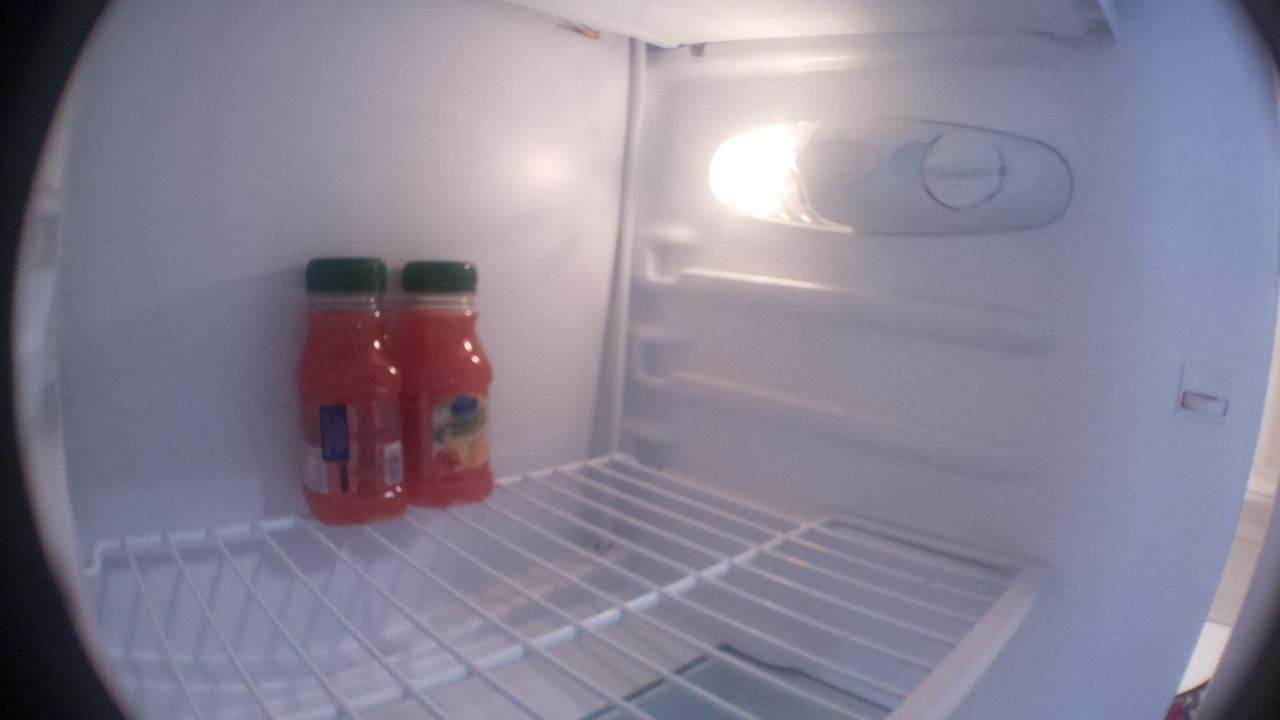juice: (286, 252, 415, 530), (396, 247, 496, 516)
